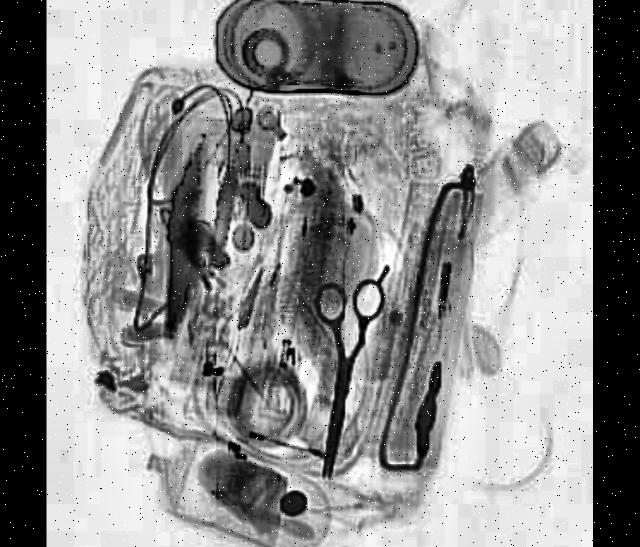Scissors: (297, 267, 383, 480)
